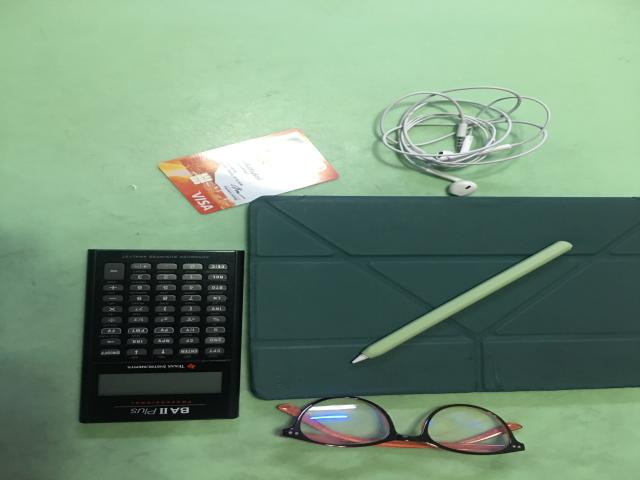Glasses: (282, 397, 523, 455)
wire: (380, 86, 550, 195)
